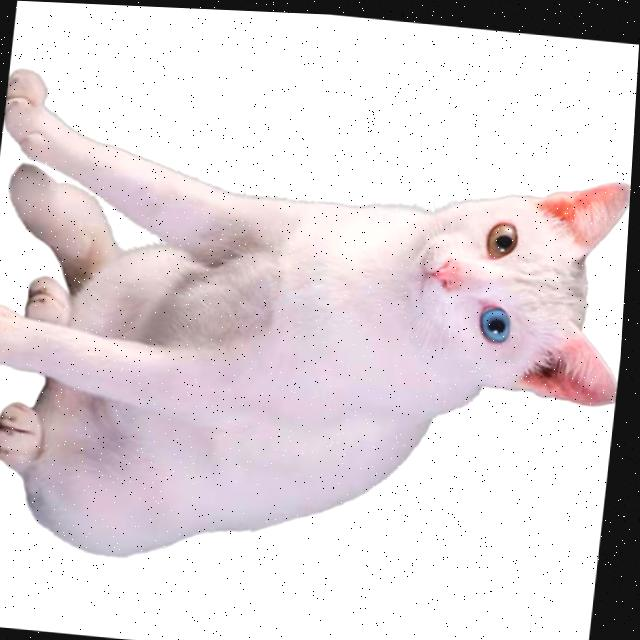Khao Manee: (0, 61, 637, 602)
